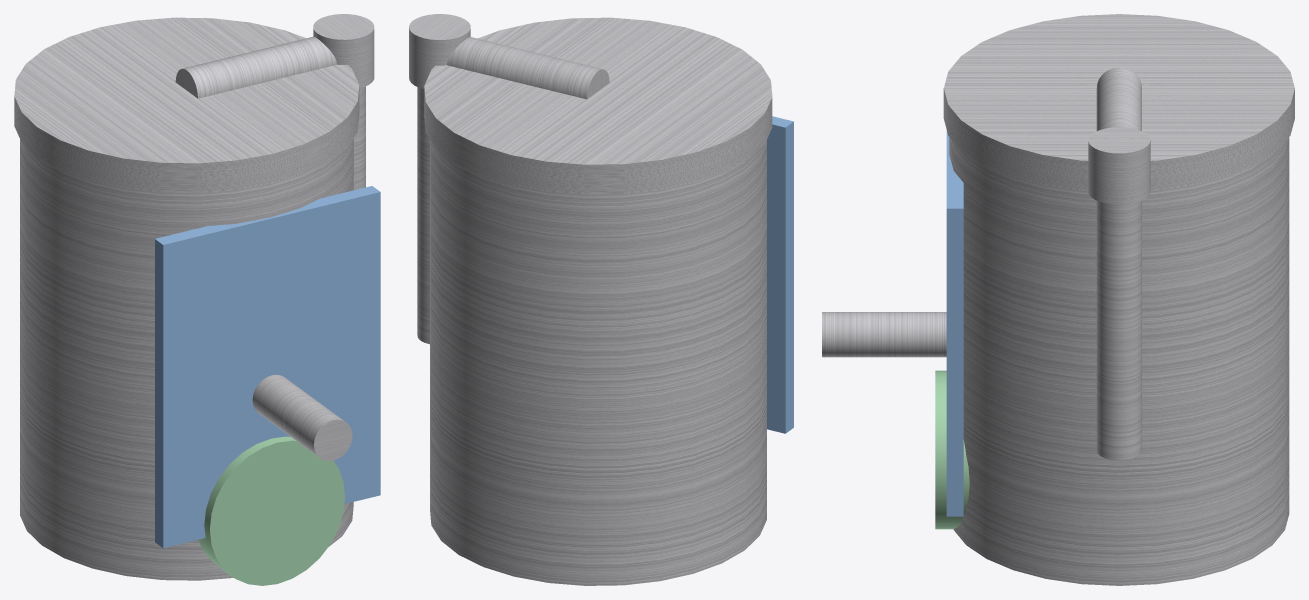
The model's file is unitA.glb.
The picture shows the model from 3 angles, left to right: view 1: azimuth 30°, elevation 25°; view 2: azimuth 150°, elevation 25°; view 3: azimuth 270°, elevation 25°; orthographic projection.
Visible parts, largest first — view 1: housing, front_panel, blower, piping; view 2: housing, piping, front_panel; view 3: housing, piping, front_panel, blower.
Boxes of the visible parts, x1,y1,x2,y2 form: housing: (14,17,359,580); front_panel: (155,186,380,548); blower: (198,436,344,585); piping: (175,14,374,460); housing: (424,17,772,585); piping: (409,14,609,344); front_panel: (767,116,793,433); housing: (943,14,1294,585); piping: (822,67,1150,460); front_panel: (946,130,963,516); blower: (935,370,969,529).
Size of the model in its own units: 1.38 by 1.79 by 1.67.
4 materials, 1 textured.
